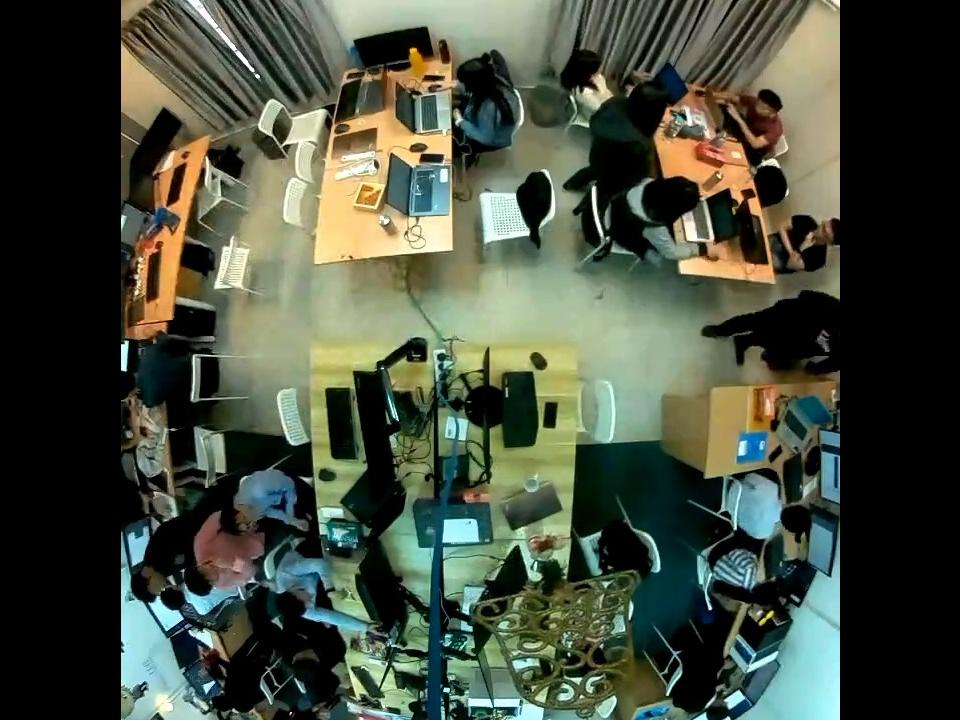name-tag: (820, 339, 832, 354)
